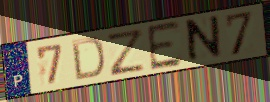7: (225, 8, 256, 58), (34, 41, 64, 86)
D: (69, 36, 107, 83)
E: (144, 19, 183, 73)
N: (187, 13, 224, 67)
Z: (105, 27, 147, 78)
